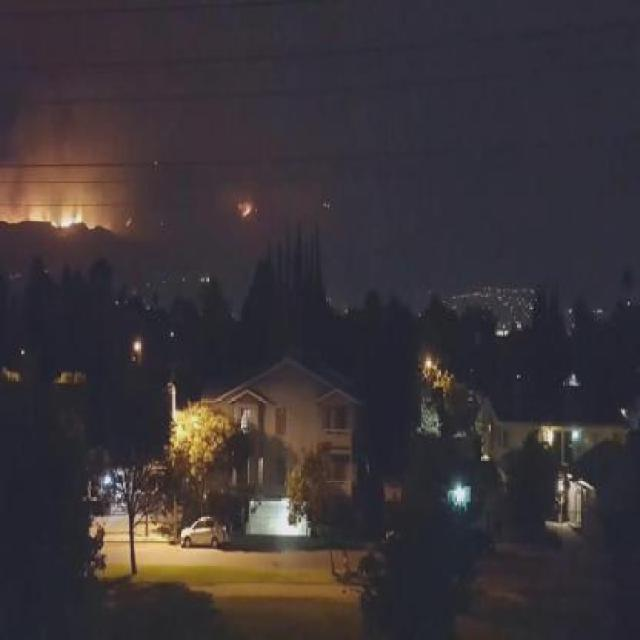Fire: (2, 208, 88, 230), (238, 200, 251, 218), (126, 218, 132, 227)
